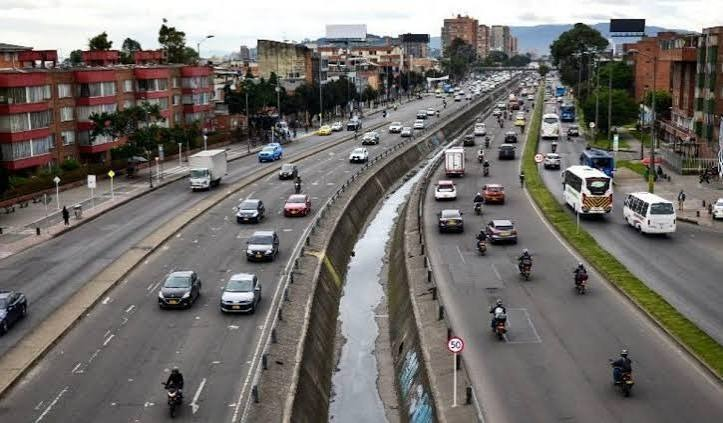car: (40, 89, 566, 318), (616, 190, 678, 236), (566, 162, 612, 215), (566, 166, 613, 216), (216, 274, 256, 313), (156, 272, 198, 307), (241, 232, 282, 262), (351, 148, 369, 160), (514, 103, 528, 111)
